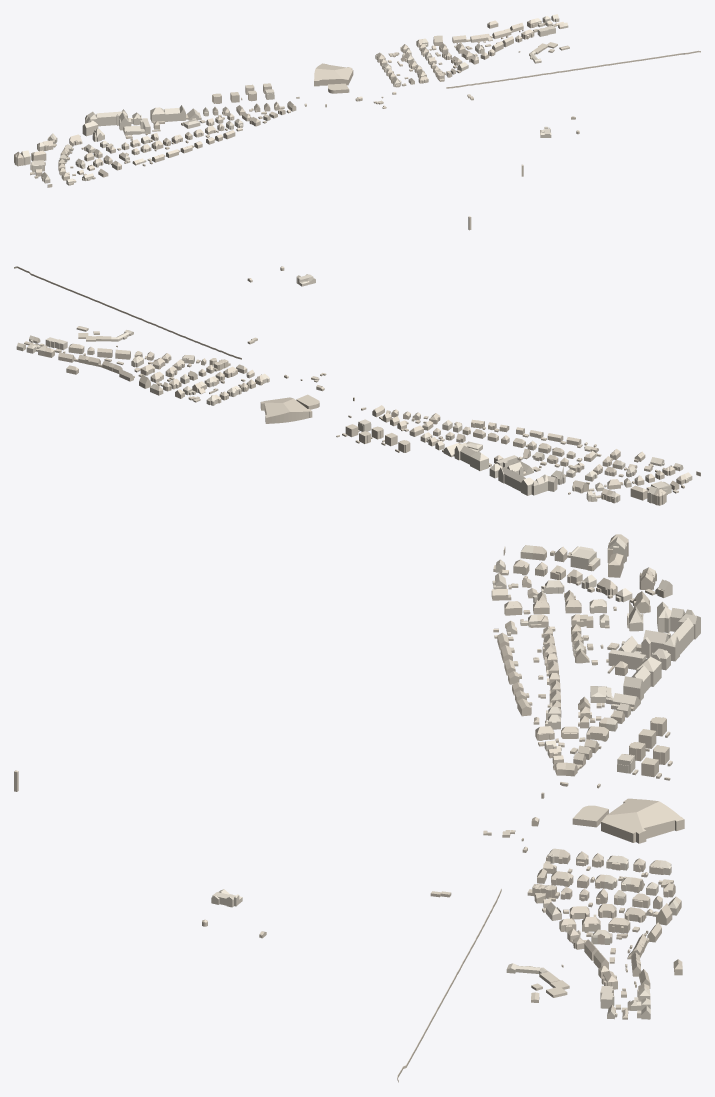
The picture shows the model from 3 angles, top to bottom: view 1: azimuth 30°, elevation 25°; view 2: azimuth 150°, elevation 25°; view 3: azimuth 270°, elevation 25°; orthographic projection. The views are drawn at different scales.
Size of the model in its own units: 1381 by 90 by 742.
